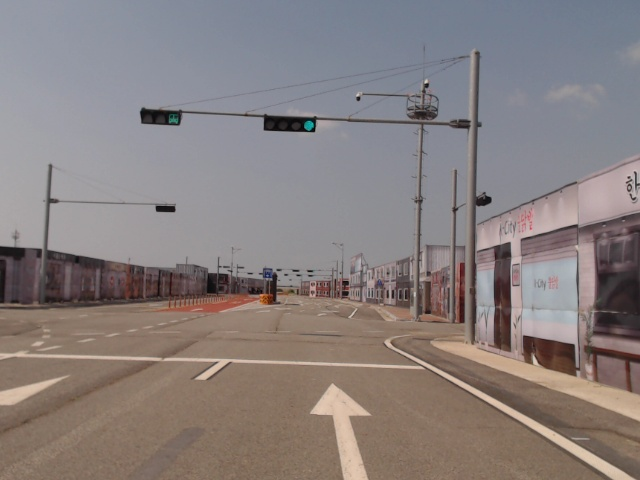straight_green_4: (263, 113, 317, 132)
